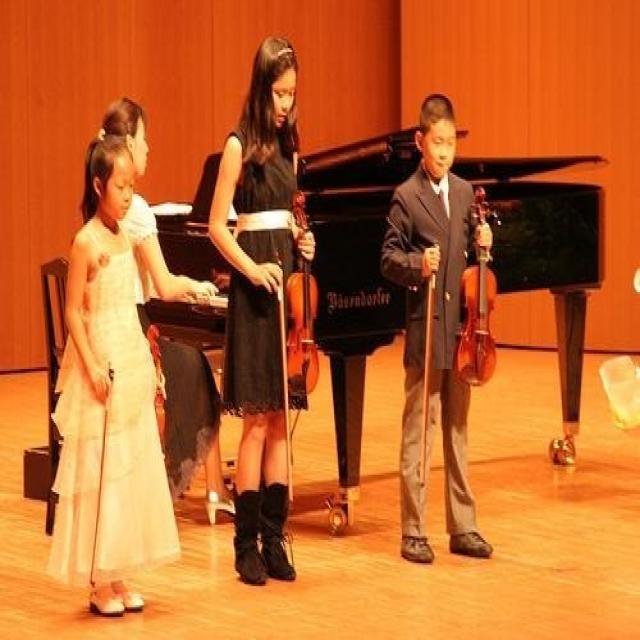violin: (454, 184, 504, 383), (284, 188, 321, 398), (144, 321, 174, 454)
